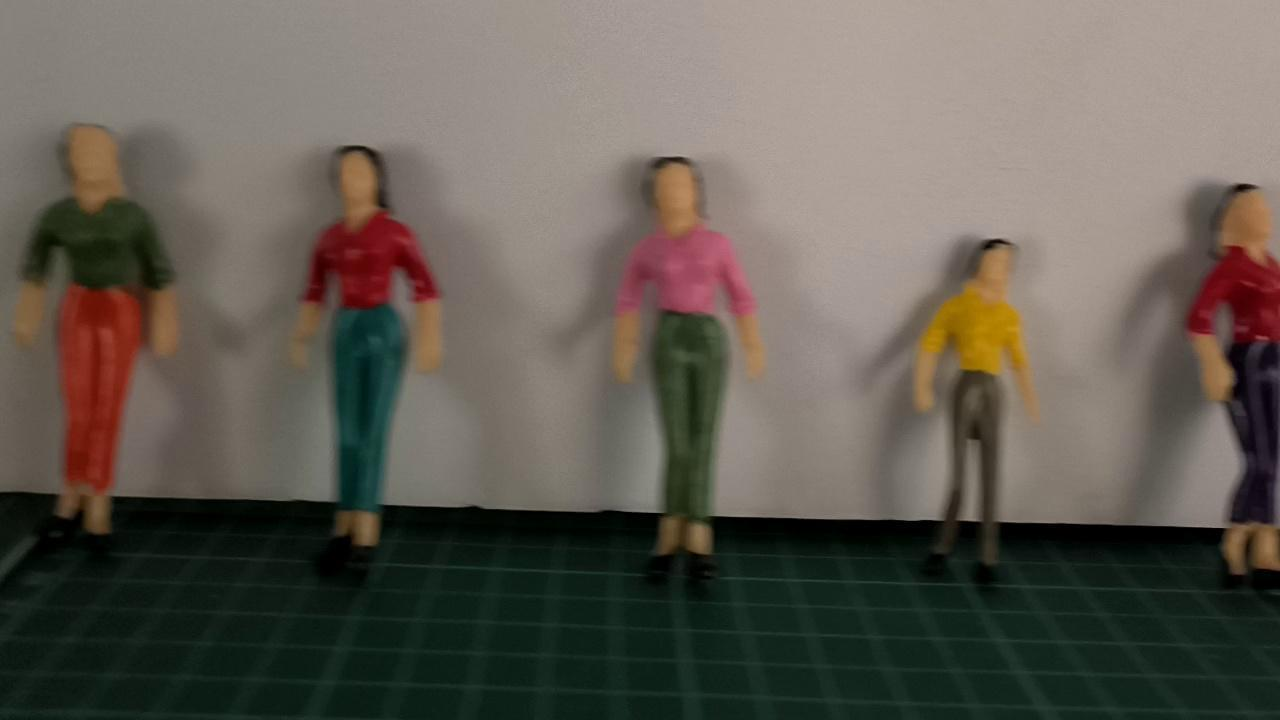human: (0, 116, 183, 560), (605, 150, 769, 598), (285, 140, 445, 574), (911, 236, 1042, 592), (1191, 174, 1280, 606)
